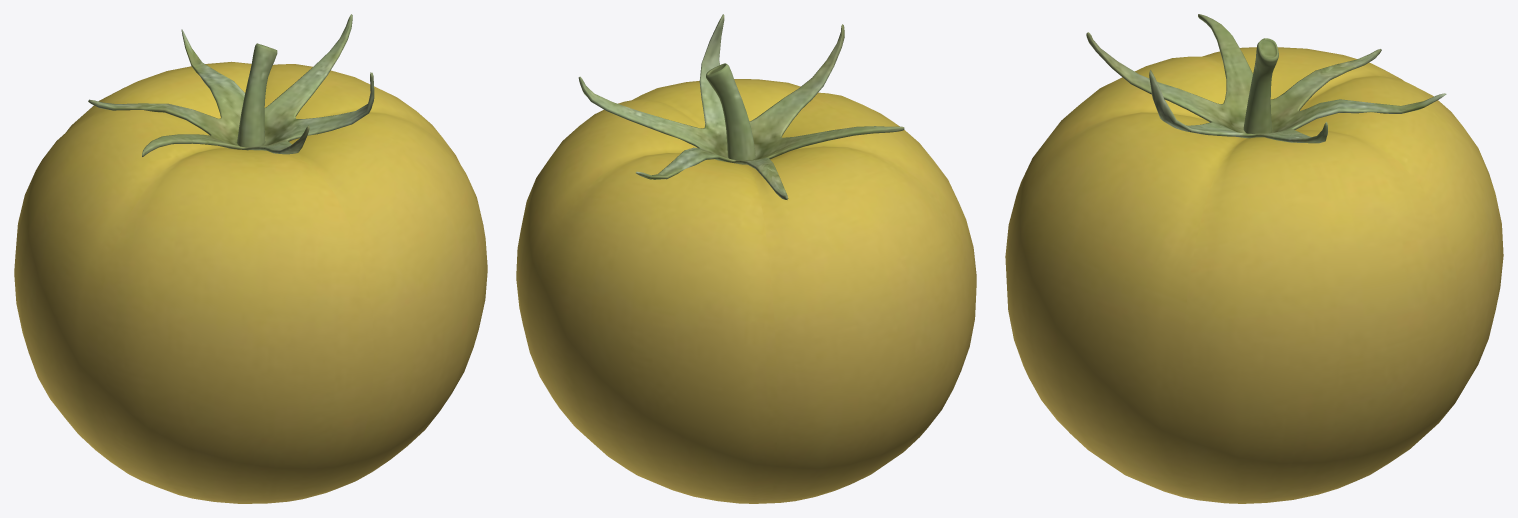
Rendered from SM_YellowTomato.fbx.
3 renders of one model, left to right at view 1: azimuth 30°, elevation 25°; view 2: azimuth 150°, elevation 25°; view 3: azimuth 270°, elevation 25°, orthographic. The views are drawn at different scales.
Visible parts, largest first — view 1: YellowTomatoPeel, YellowTomatoCalyx, YellowTomatoPedicel; view 2: YellowTomatoPeel, YellowTomatoCalyx, YellowTomatoPedicel; view 3: YellowTomatoPeel, YellowTomatoCalyx, YellowTomatoPedicel.
Boxes of the visible parts, x1,y1,x2,y2 form: YellowTomatoPeel: (14,61,487,503); YellowTomatoCalyx: (88,14,374,156); YellowTomatoPedicel: (237,43,277,147); YellowTomatoPeel: (516,79,976,503); YellowTomatoCalyx: (578,14,904,199); YellowTomatoPedicel: (706,63,755,159); YellowTomatoPeel: (1005,47,1503,503); YellowTomatoCalyx: (1086,14,1446,143); YellowTomatoPedicel: (1243,38,1278,133).
Size of what is drawn, in the model's own units: 6.31 by 6.28 by 6.14.
